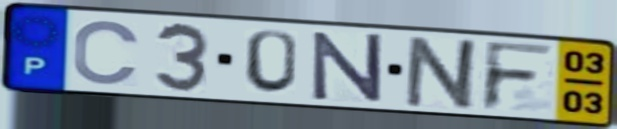0: (240, 28, 299, 97)
3: (151, 20, 213, 94)
C: (70, 18, 144, 88)
F: (478, 39, 559, 113)
N: (401, 34, 486, 113), (309, 30, 386, 104)
